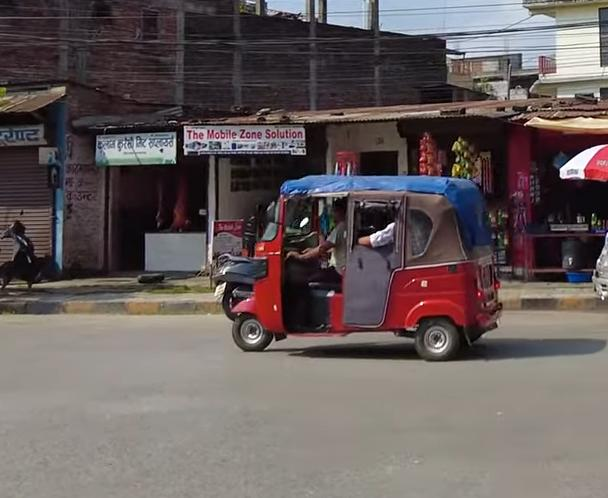auto_rickshaw: (233, 173, 504, 361)
